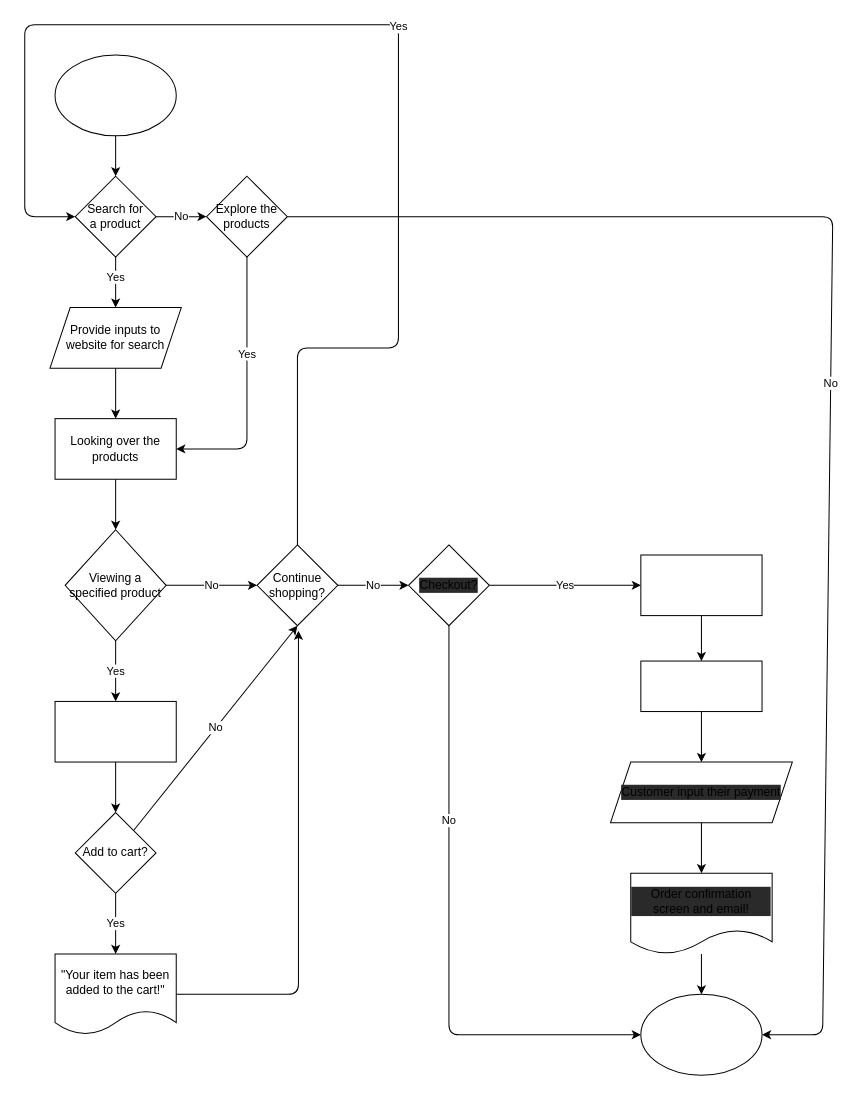
Some shapes in this 859 by 1093 pixel diagram are drawn without their labels. The shapes that lost their labels are listed below. From the top down, each one's centre as x and y in pixels, then its label:
At [115,95]: "Start".
At [701,585]: "View Cart screen".
At [701,686]: "View Payyment screen".
At [115,731]: "Product's webpage will open".
At [701,1034]: "Leave Website".
